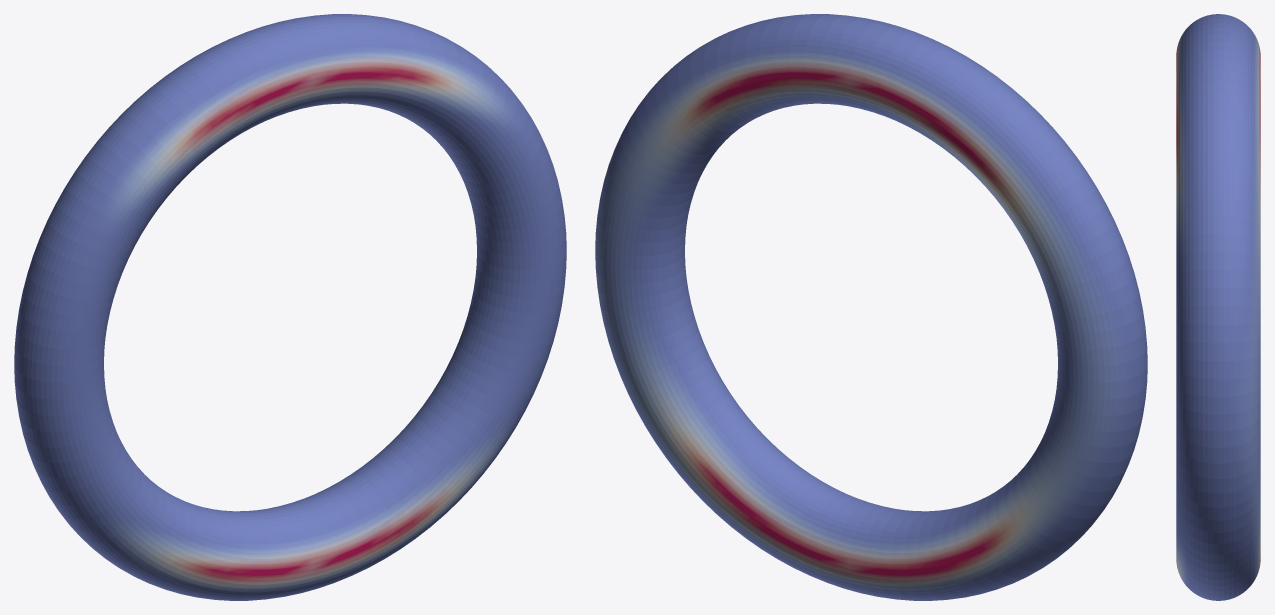
3 renders of one model, left to right at view 1: azimuth 30°, elevation 25°; view 2: azimuth 150°, elevation 25°; view 3: azimuth 270°, elevation 25°, orthographic. The views are drawn at different scales.
Parts seen in each view (by area): view 1: world; view 2: world; view 3: world.
Part boxes in pixels (x1,y1,x2,y2): world: (14, 14, 566, 600); world: (595, 14, 1147, 600); world: (1176, 14, 1260, 600).
Bounding box in the file's own units: 19.47 × 19.47 × 2.79.
